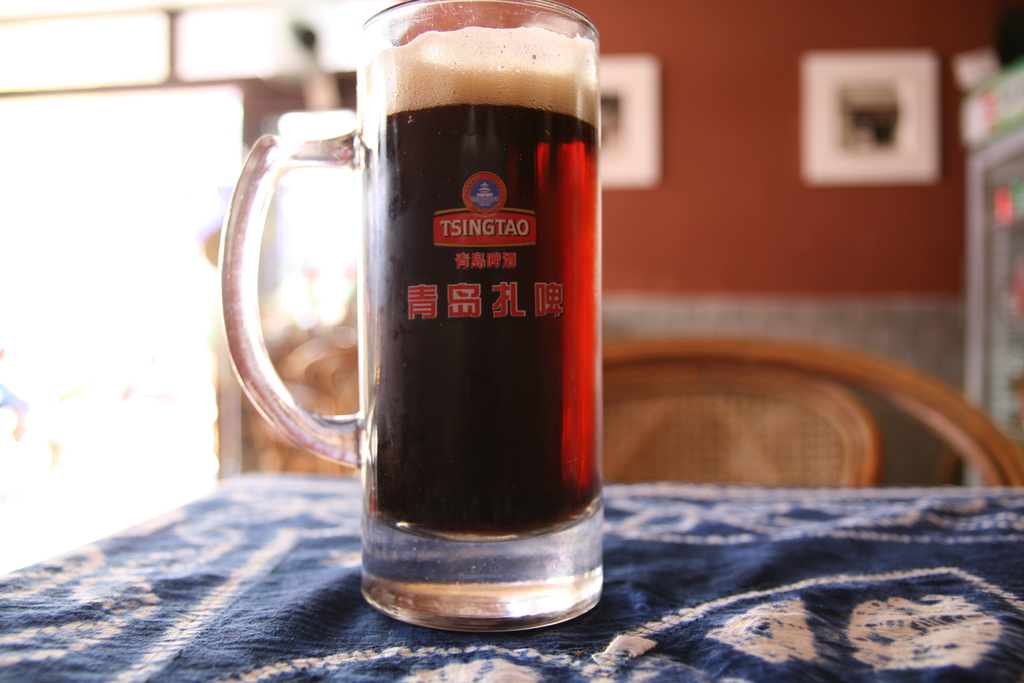Beer: (216, 0, 626, 635)
